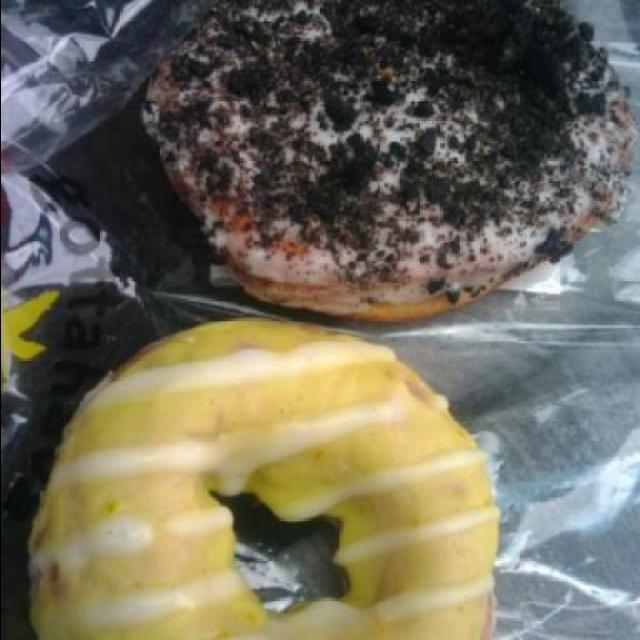Donuts: (2, 6, 636, 638)
